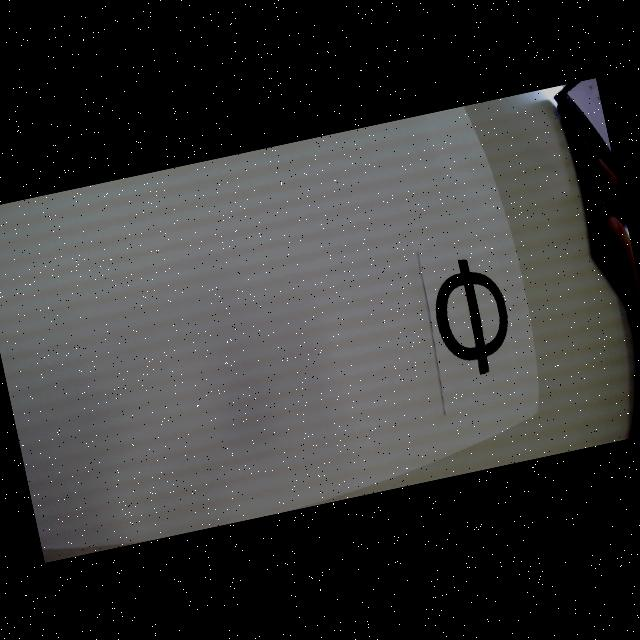PHI: (424, 251, 518, 382)
